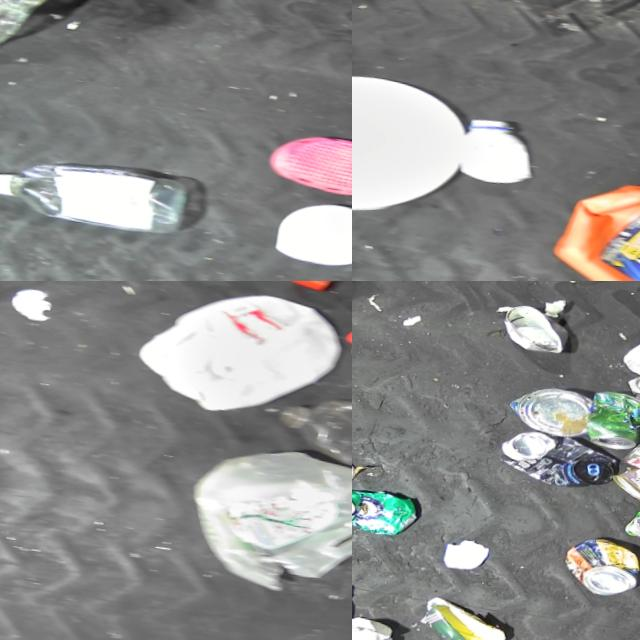can: (499, 424, 628, 493), (508, 380, 601, 438), (565, 532, 640, 597), (352, 482, 430, 538), (497, 301, 576, 354), (585, 388, 640, 452), (614, 462, 640, 505), (352, 451, 364, 486)
milk_jug: (129, 281, 352, 426), (329, 309, 352, 412)
non_white_jug: (534, 169, 640, 281)
plastic_bottle: (0, 154, 214, 238), (273, 385, 352, 477)
